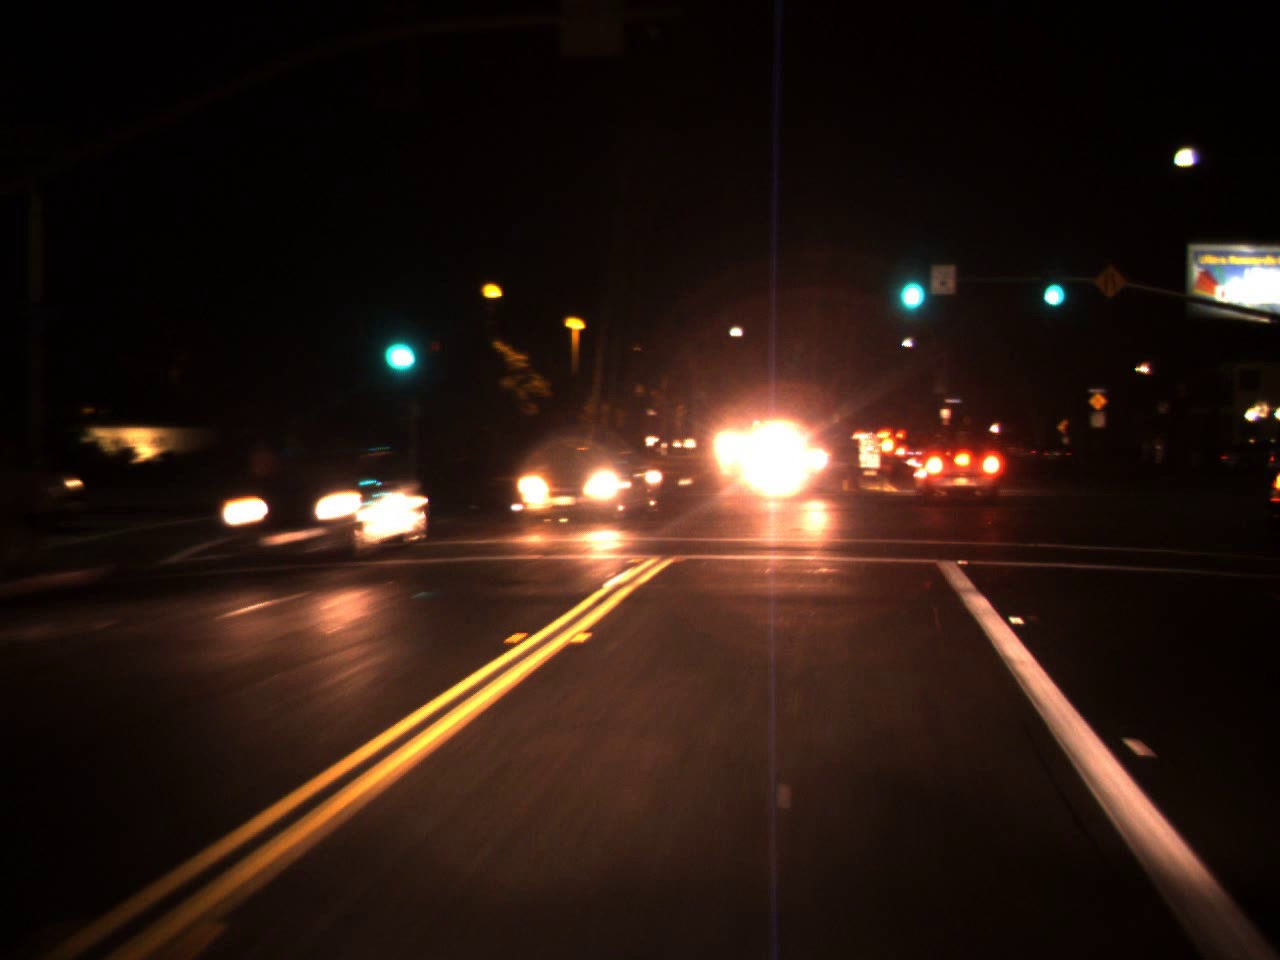go: (372, 305, 422, 383), (889, 248, 930, 320), (1035, 257, 1069, 314)
